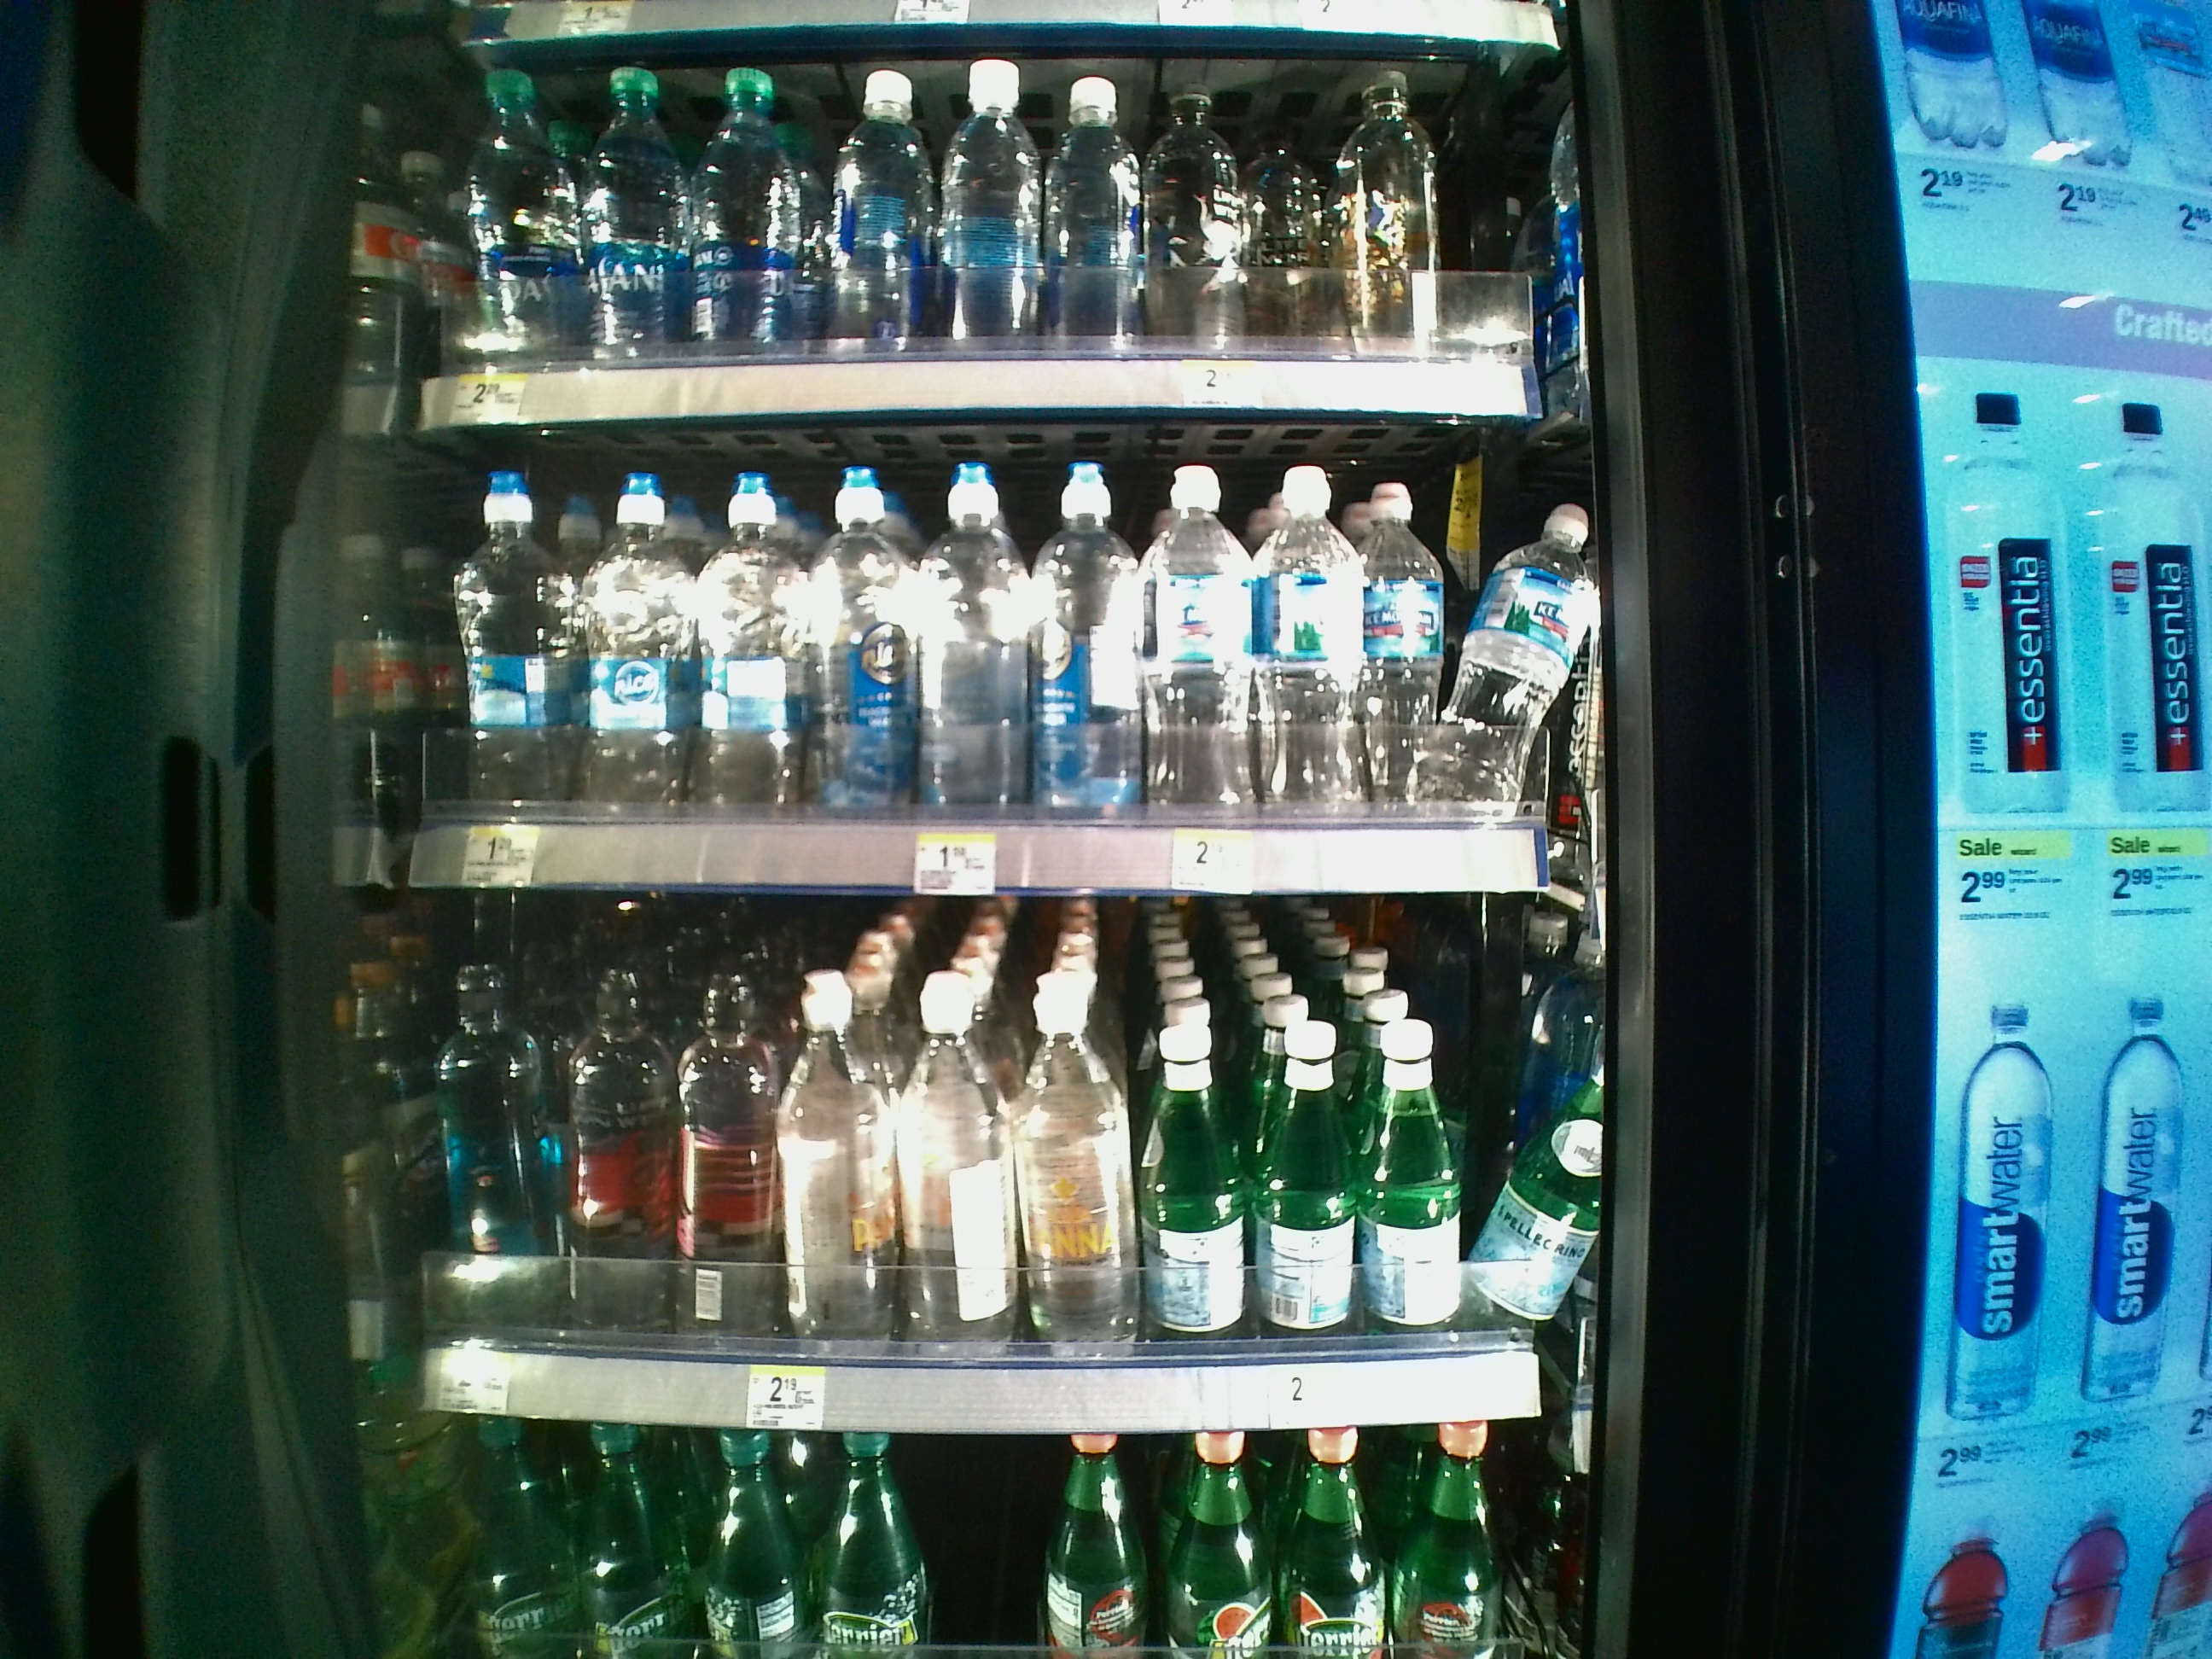shelf: (394, 894, 1611, 1436), (392, 430, 1601, 897)
